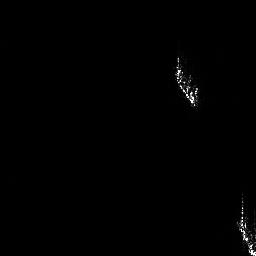ship: (174, 54, 200, 111), (237, 195, 256, 256)
